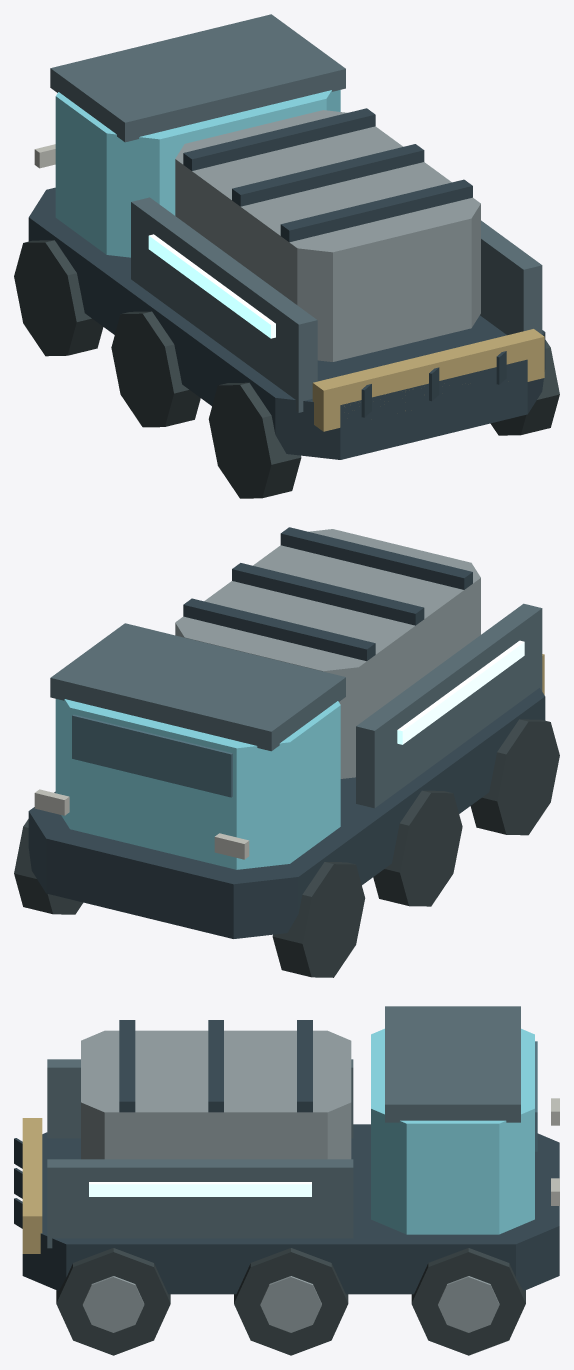
File: transport-low.glb
3 views of the same model, one above another, from view 1: azimuth 30°, elevation 25°; view 2: azimuth 150°, elevation 25°; view 3: azimuth 270°, elevation 25° (orthographic). The views are drawn at different scales.
Parts seen in each view (by area): view 1: asset_transport__FP_Baked, energy_container__FP_Baked, cab, asset_transport__FP_Signal; view 2: asset_transport__FP_Baked, energy_container__FP_Baked, cab, asset_transport__FP_Signal; view 3: asset_transport__FP_Baked, energy_container__FP_Baked, cab, asset_transport__FP_Signal.
Part boxes in pixels (x1,y1,x2,y2): asset_transport__FP_Baked: (14,14,559,498); energy_container__FP_Baked: (175,108,480,361); cab: (55,90,340,257); asset_transport__FP_Signal: (148,234,275,338); asset_transport__FP_Baked: (14,603,559,977); energy_container__FP_Baked: (175,527,480,778); cab: (55,699,340,869); asset_transport__FP_Signal: (397,640,524,744); asset_transport__FP_Baked: (14,1006,559,1355); energy_container__FP_Baked: (81,1020,351,1159); cab: (371,1028,534,1234); asset_transport__FP_Signal: (89,1182,311,1196).
Bounding box in the file's own units: 1.55 × 1.32 × 2.77.
